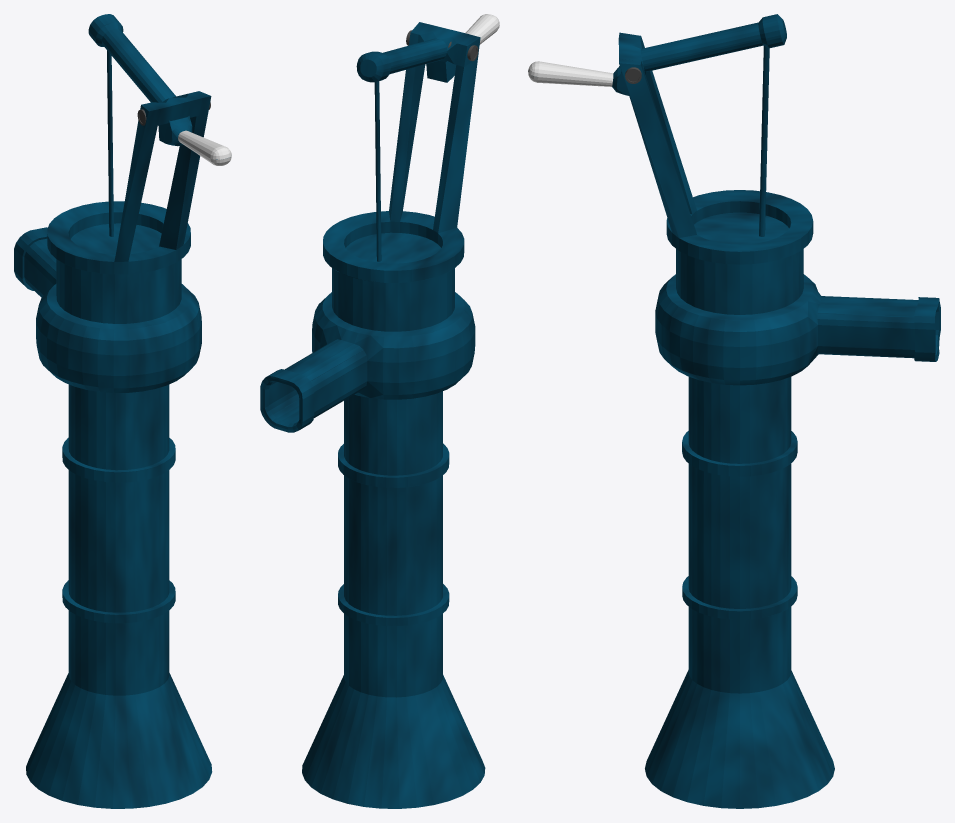
Rendered from water.fbx.
3 views of the same model, side by side, from view 1: azimuth 30°, elevation 25°; view 2: azimuth 150°, elevation 25°; view 3: azimuth 270°, elevation 25° (orthographic). The views are drawn at different scales.
Visible parts, largest first — view 1: Cylinder; view 2: Cylinder; view 3: Cylinder.
Boxes of the visible parts, x1,y1,x2,y2 form: Cylinder: (14, 14, 231, 808); Cylinder: (260, 14, 499, 808); Cylinder: (528, 14, 940, 808).
Bounding box in the file's own units: 370 × 1619 × 803.
